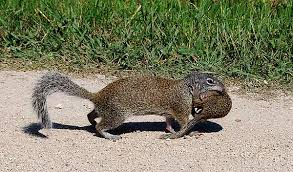squirrel: (33, 71, 232, 136)
